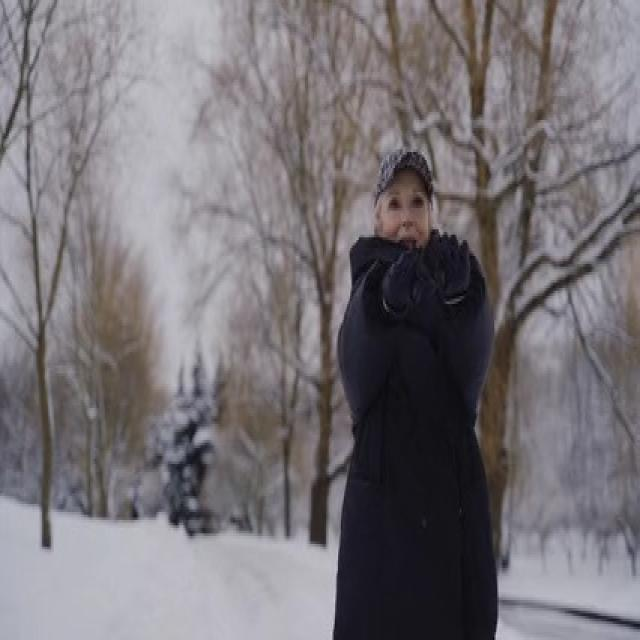Jacket_Wearer: (344, 230, 492, 640)
Person: (339, 164, 504, 640)
